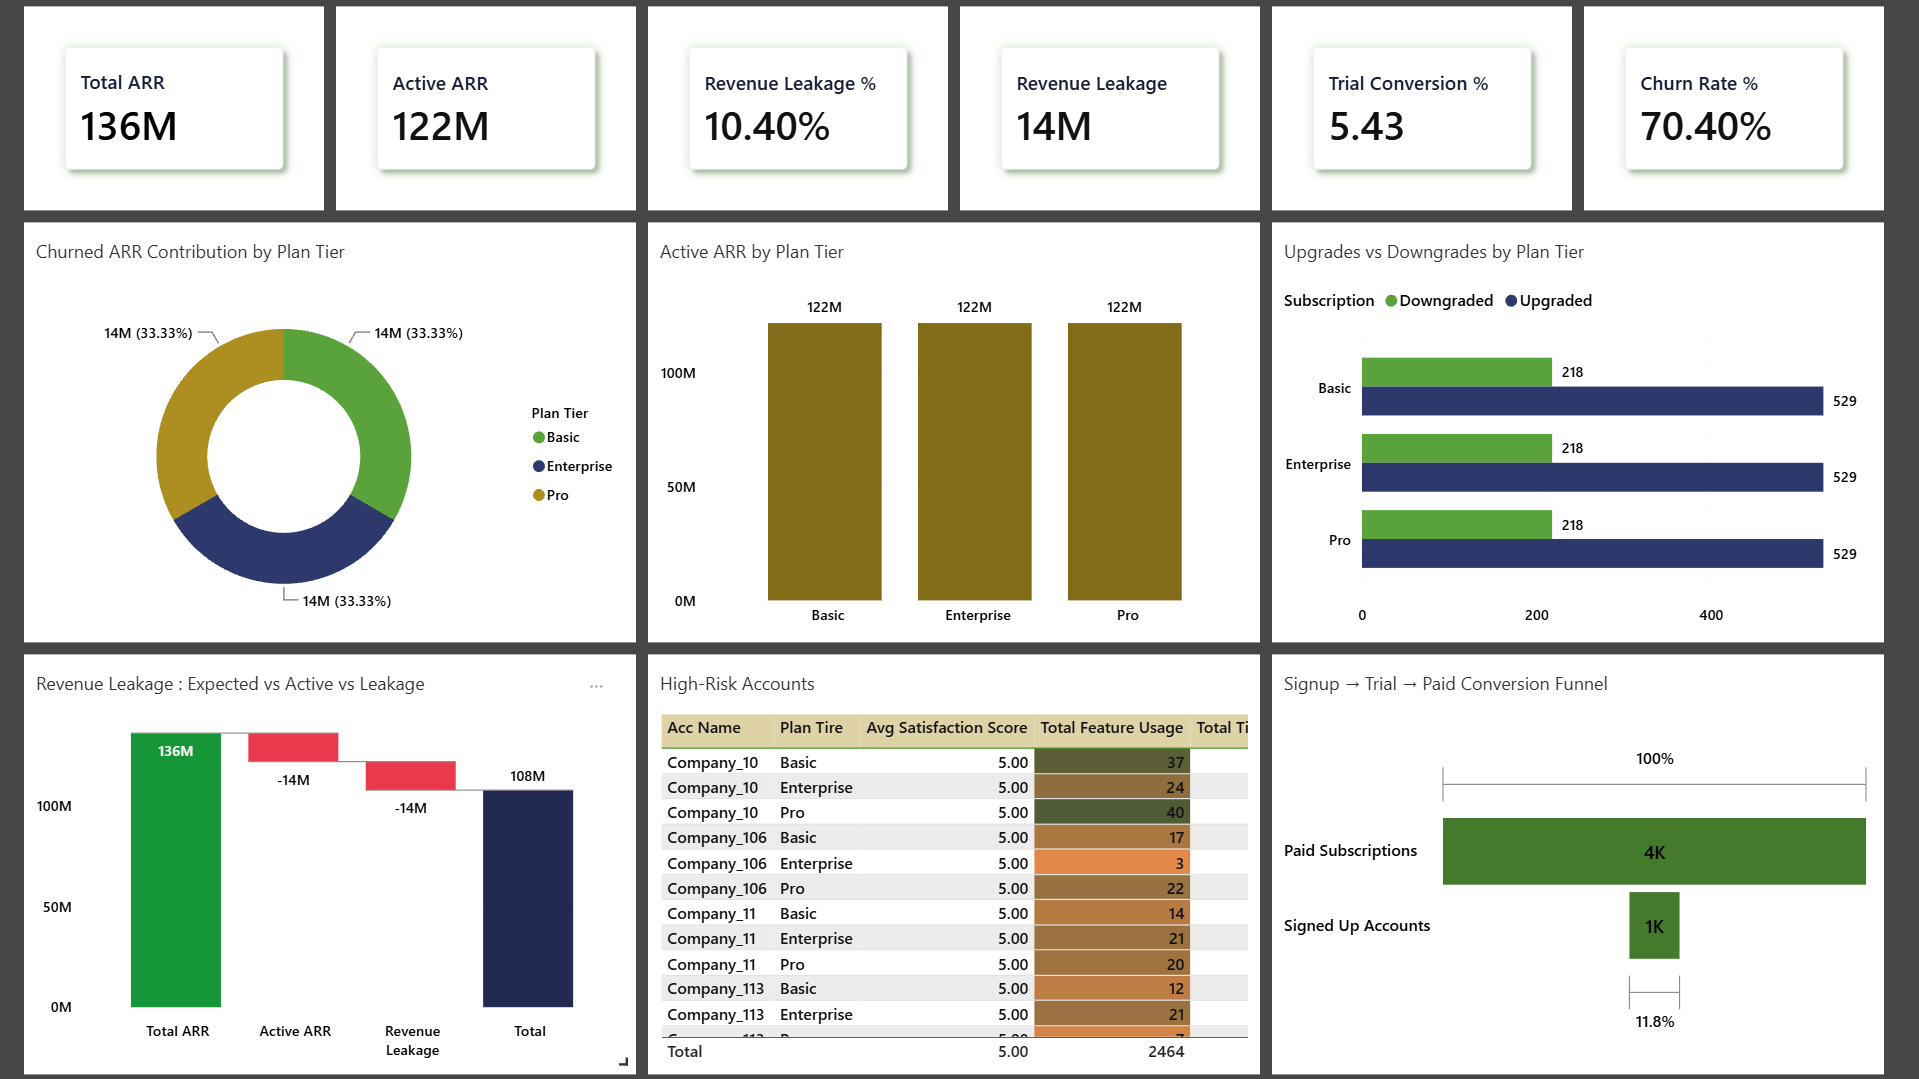

Layout of this report page (visuals, bound fields, positions):
{"tool":"powerbi","page":{"name":"Executive revenue Overview","canvas":[1280,720],"ordinal":0},"visuals":[{"type":"cardVisual","fields":{"Data":["_Measures.Active ARR"]},"box":[178.9,96.1,217,150.7],"z":0},{"type":"cardVisual","fields":{"Data":["_Measures.Total ARR"]},"box":[0,96.1,188.8,150.7],"z":1},{"type":"cardVisual","fields":{"Data":["_Measures.Revenue Leakage"]},"box":[626.1,94.4,218.7,150.7],"z":2},{"type":"cardVisual","fields":{"Data":["_Measures.Churn Rate %"]},"box":[844.8,94.4,202.1,150.7],"z":3},{"type":"cardVisual","fields":{"Data":["_Measures.Revenue Leakage %"]},"box":[395.9,94.4,230.3,150.7],"z":4},{"type":"waterfallChart","title":"Revenue Leakage : Expected vs  Active vs Leakage","fields":{"Category":["Revenue_Waterfall.Step"],"Y":["Dim_Account.Revenue Waterfall Value"]},"box":[0,243,467.8,455.7],"z":5},{"type":"advancedSlicerVisual","fields":{"Values":["Dim_Plan.Billing Frequency"]},"box":[1005.5,402.5,275,147.4],"z":6},{"type":"slicer","fields":{"Values":["Dim_Plan.Plan Tier"]},"box":[1004.6,563,275.4,135.7],"z":7},{"type":"slicer","fields":{"Values":["Dim_Date.Year Month"]},"box":[1005.5,243.5,275,130.9],"z":8},{"type":"clusteredColumnChart","title":"Active ARR by Plan Tier","fields":{"Category":["Dim_Plan.Plan Tier"],"Y":["_Measures.Active ARR"]},"box":[495.3,243.5,490.3,217],"z":9},{"type":"donutChart","title":"Churned ARR Contribution by Plan Tier","fields":{"Category":["Dim_Plan.Plan Tier"],"Y":["_Measures.Churned ARR"]},"box":[496.2,482,490.1,216.7],"z":10},{"type":"cardVisual","fields":{"Data":["_Measures.Trial Conversion %"]},"box":[1046.9,92.8,225.3,149.1],"z":11},{"type":"actionButton","box":[1099.9,0,119.3,107.7],"z":12},{"type":"shape","box":[29.8,9.9,975.7,97.7],"z":13}]}

Visuals, with their boxes in screenshot pixels (x1, y1, x2, y2), scaled from the page's 1280x720 canvas onto the 1919x1079 screenshot:
cardVisual - _Measures.Active ARR: [left=268, top=144, right=594, bottom=370]
cardVisual - _Measures.Total ARR: [left=0, top=144, right=283, bottom=370]
cardVisual - _Measures.Revenue Leakage: [left=939, top=141, right=1267, bottom=367]
cardVisual - _Measures.Churn Rate %: [left=1267, top=141, right=1570, bottom=367]
cardVisual - _Measures.Revenue Leakage %: [left=594, top=141, right=939, bottom=367]
"Revenue Leakage : Expected vs  Active vs Leakage" waterfallChart: [left=0, top=364, right=701, bottom=1047]
advancedSlicerVisual - Dim_Plan.Billing Frequency: [left=1507, top=603, right=1918, bottom=824]
slicer - Dim_Plan.Plan Tier: [left=1506, top=844, right=1918, bottom=1047]
slicer - Dim_Date.Year Month: [left=1507, top=365, right=1918, bottom=561]
"Active ARR by Plan Tier" clusteredColumnChart: [left=743, top=365, right=1478, bottom=690]
"Churned ARR Contribution by Plan Tier" donutChart: [left=744, top=722, right=1479, bottom=1047]
cardVisual - _Measures.Trial Conversion %: [left=1570, top=139, right=1907, bottom=363]
actionButton: [left=1649, top=0, right=1828, bottom=161]
shape: [left=45, top=15, right=1507, bottom=161]
